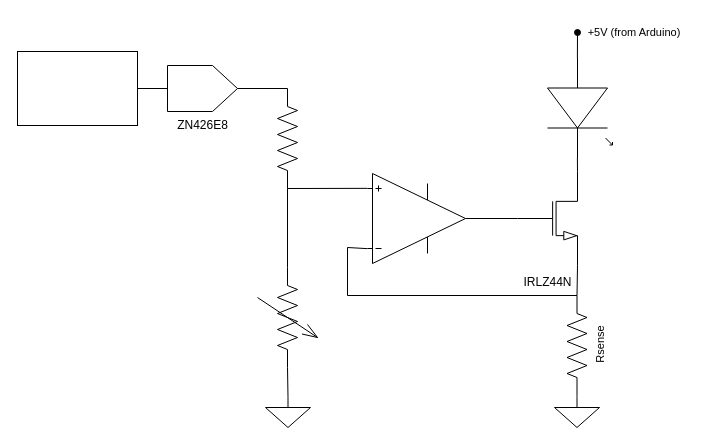
This 709x445 diagram has some shape labels left out. Here are the shapes that lost their labels. From the top down, the box of each, then its label:
(16, 50, 138, 126): Arduino D8-D13, A0-A1
(366, 172, 466, 264): OPA2350
